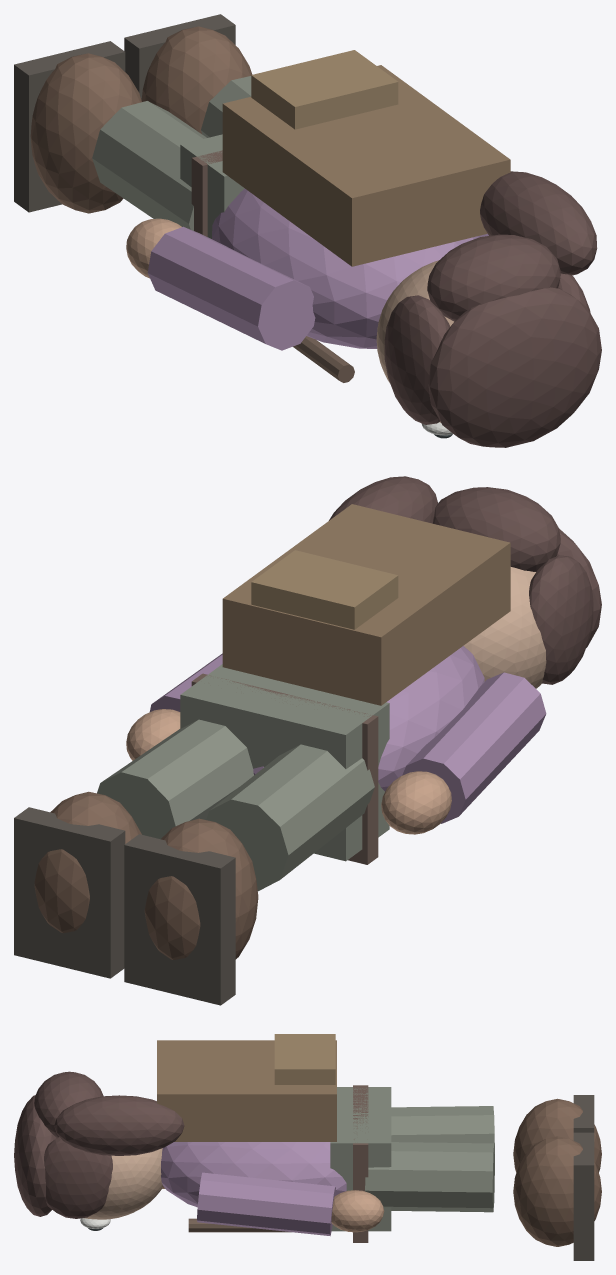
File: exploradora_inicial.glb
3 views of the same model, one above another, from view 1: azimuth 30°, elevation 25°; view 2: azimuth 150°, elevation 25°; view 3: azimuth 270°, elevation 25° (orthographic). The views are drawn at different scales.
Visible parts, largest first — view 1: backpack, hair_cap, torso, arm_-1, boot_-1, leg_-1, backpack_pocket, ponytail_base, ponytail, boot_1, hair_side_-1, boot_sole_-1 (+7 smaller); view 2: backpack, cargo_pants_waist, leg_-1, boot_sole_-1, boot_sole_1, leg_1, arm_-1, backpack_pocket, boot_-1, torso, ponytail_base, hair_side_-1 (+8 smaller); view 3: backpack, leg_1, torso, arm_1, ponytail, boot_1, cargo_pants_waist, hair_side_1, leg_-1, backpack_pocket, head, hair_cap (+7 smaller).
Boxes of the visible parts, x1,y1,x2,y2 form: backpack: [222, 65, 510, 266]; hair_cap: [428, 287, 601, 447]; torso: [212, 188, 478, 348]; arm_-1: [147, 226, 315, 350]; boot_-1: [30, 53, 141, 213]; leg_-1: [92, 101, 206, 230]; backpack_pocket: [251, 50, 398, 129]; ponytail_base: [427, 234, 560, 321]; ponytail: [480, 171, 597, 275]; boot_1: [141, 26, 252, 133]; hair_side_-1: [384, 295, 450, 424]; boot_sole_-1: [14, 41, 125, 212]; backpack: [222, 504, 510, 705]; cargo_pants_waist: [180, 664, 389, 861]; leg_-1: [206, 744, 374, 891]; boot_sole_-1: [124, 834, 235, 1005]; boot_sole_1: [14, 807, 125, 978]; leg_1: [97, 719, 253, 839]; arm_-1: [402, 672, 546, 823]; backpack_pocket: [251, 550, 398, 629]; boot_-1: [144, 818, 258, 959]; torso: [253, 646, 484, 791]; ponytail_base: [433, 487, 560, 571]; hair_side_-1: [529, 555, 593, 684]; backpack: [157, 1040, 336, 1141]; leg_1: [365, 1142, 494, 1212]; torso: [161, 1142, 346, 1207]; arm_1: [197, 1172, 335, 1236]; ponytail: [54, 1095, 184, 1155]; boot_1: [513, 1136, 601, 1246]; cargo_pants_waist: [330, 1087, 391, 1231]; hair_side_1: [44, 1137, 112, 1218]; leg_-1: [391, 1106, 494, 1153]; backpack_pocket: [274, 1034, 335, 1084]; head: [83, 1148, 162, 1219]; hair_cap: [14, 1095, 56, 1216].
Bounding box in the file's own units: 0.9228 × 0.6925 × 2.12.
